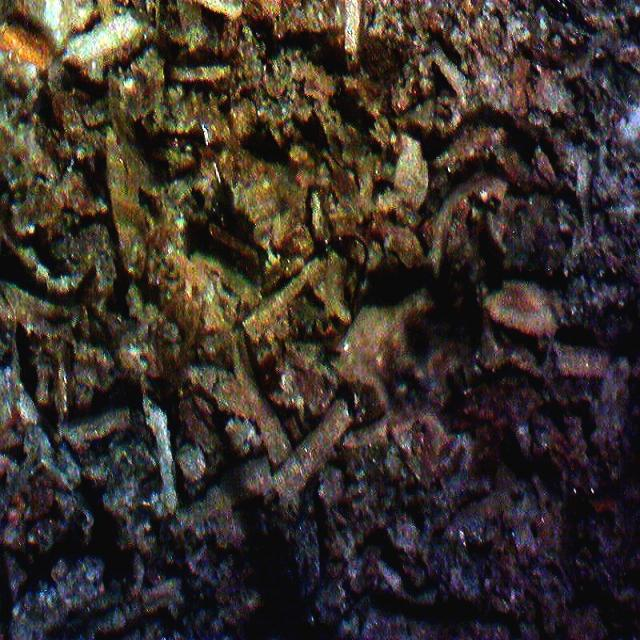microplastic: (304, 235, 369, 326)
